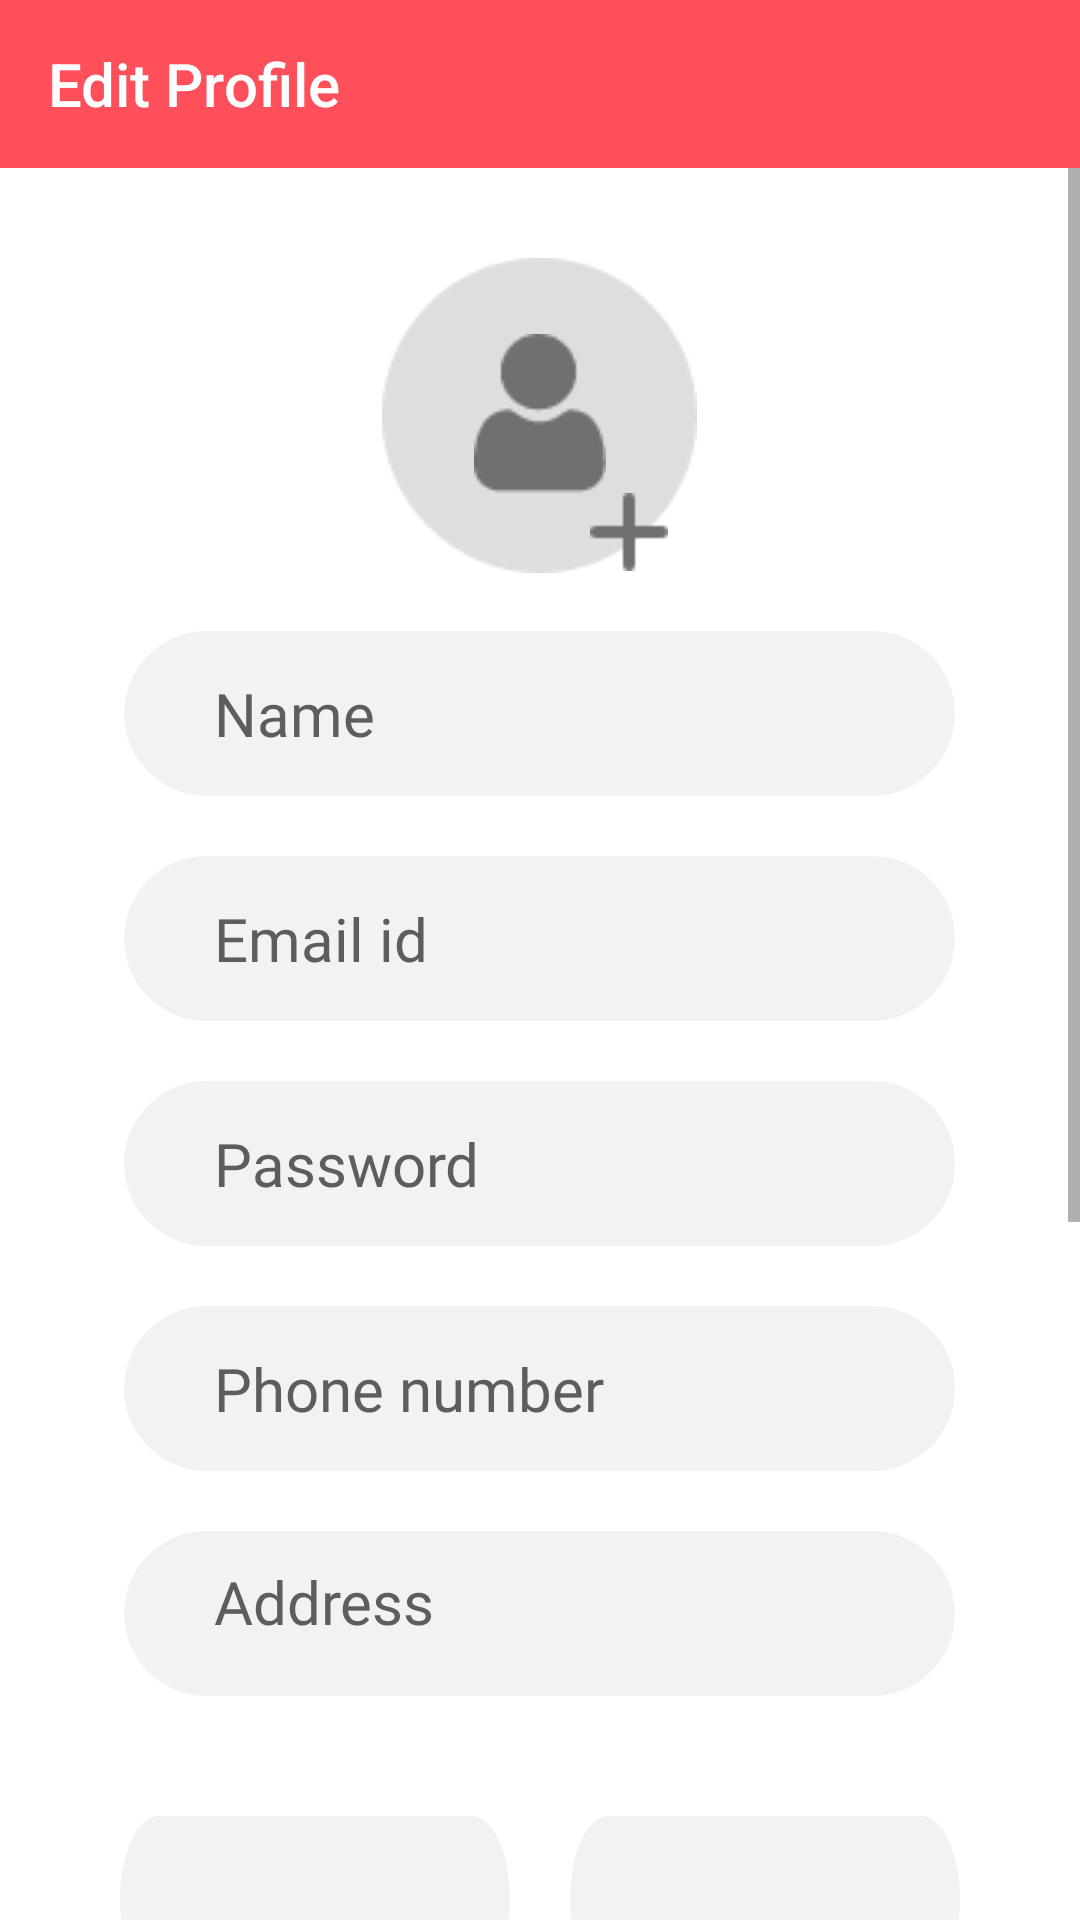

Where to tap for icons on this 1080*1920 app screen, as (x=x, y=y):
profile: (x=540, y=413)
